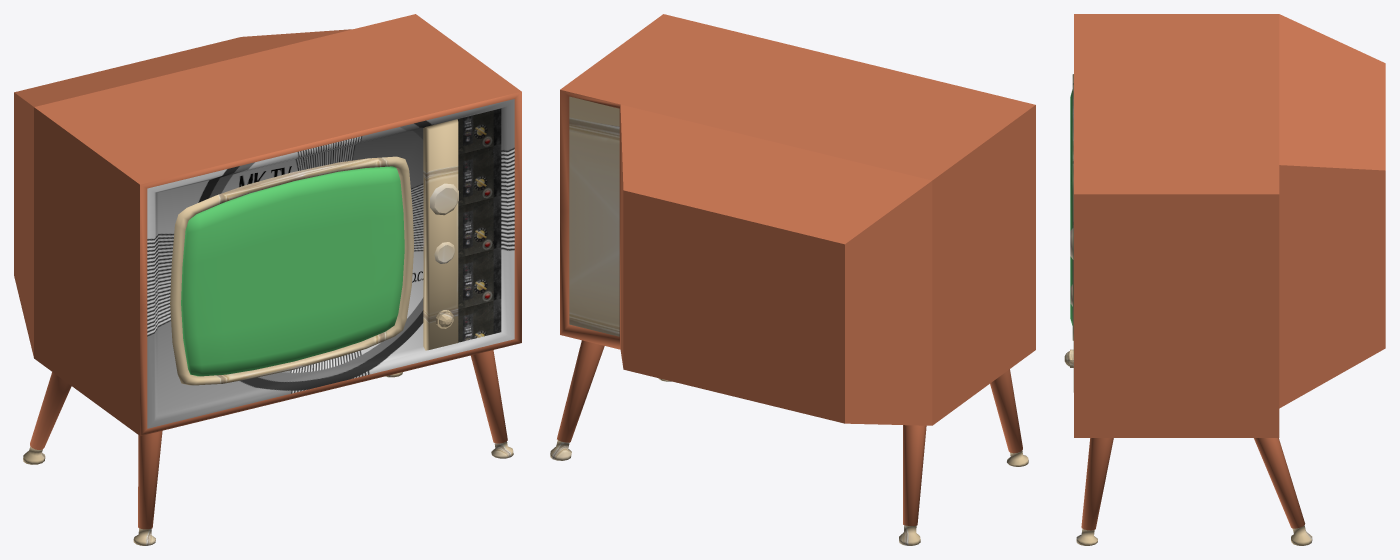
File: model_crttv.fbx
The picture shows the model from 3 angles, left to right: view 1: azimuth 30°, elevation 25°; view 2: azimuth 150°, elevation 25°; view 3: azimuth 270°, elevation 25°; orthographic projection. The views are drawn at different scales.
Visible parts, largest first — view 1: Cube_001; view 2: Cube_001; view 3: Cube_001.
Boxes of the visible parts, x1,y1,x2,y2 form: Cube_001: [14, 14, 521, 545]; Cube_001: [550, 14, 1035, 545]; Cube_001: [1064, 14, 1385, 545].
Size of the model in its own units: 97.65 by 89.07 by 73.43.
